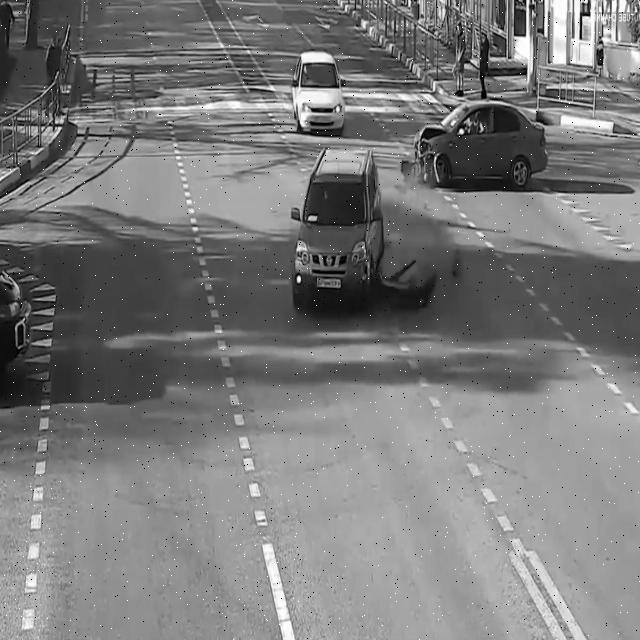accident: (282, 139, 434, 326), (394, 88, 557, 194)
